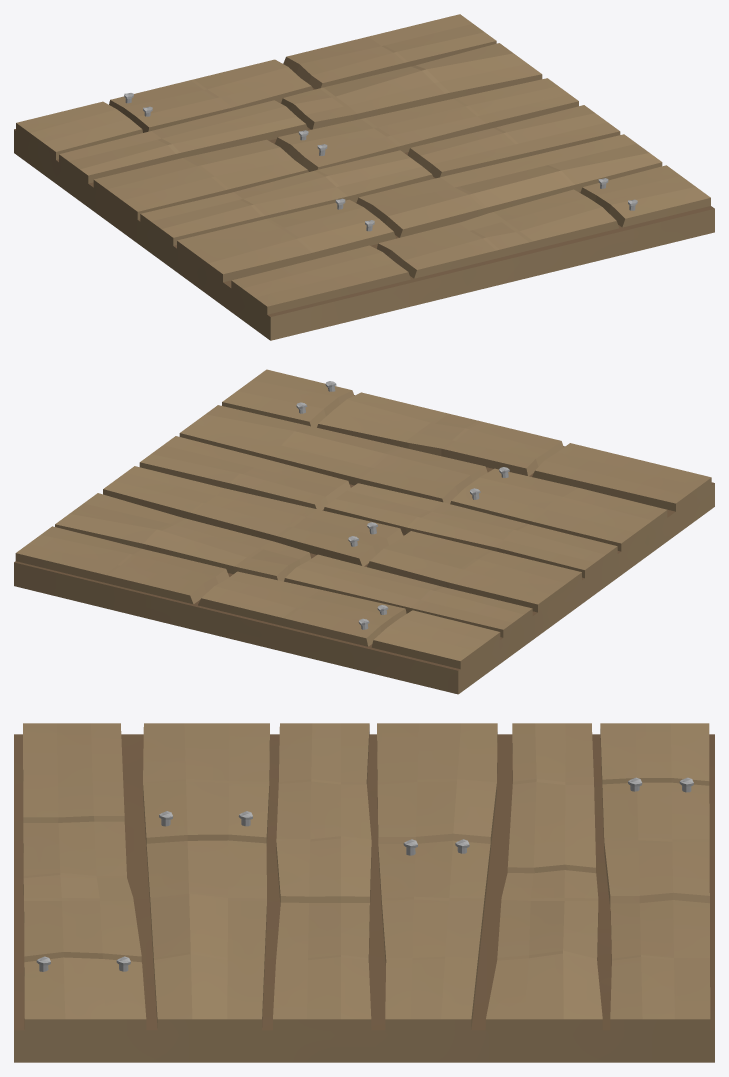
Rendered from floor_wood_1.glb.
3 renders of one model, top to bottom at view 1: azimuth 30°, elevation 25°; view 2: azimuth 150°, elevation 25°; view 3: azimuth 270°, elevation 25°, orthographic. The views are drawn at different scales.
Parts seen in each view (by area): view 1: floor_wood_1; view 2: floor_wood_1; view 3: floor_wood_1.
Part boxes in pixels (x1,y1,x2,y2): floor_wood_1: (14, 14, 714, 340); floor_wood_1: (14, 369, 714, 694); floor_wood_1: (14, 723, 714, 1062).
Size of the model in its own units: 2 by 0.176 by 2.
Materials: 1 (1 with a texture image).
